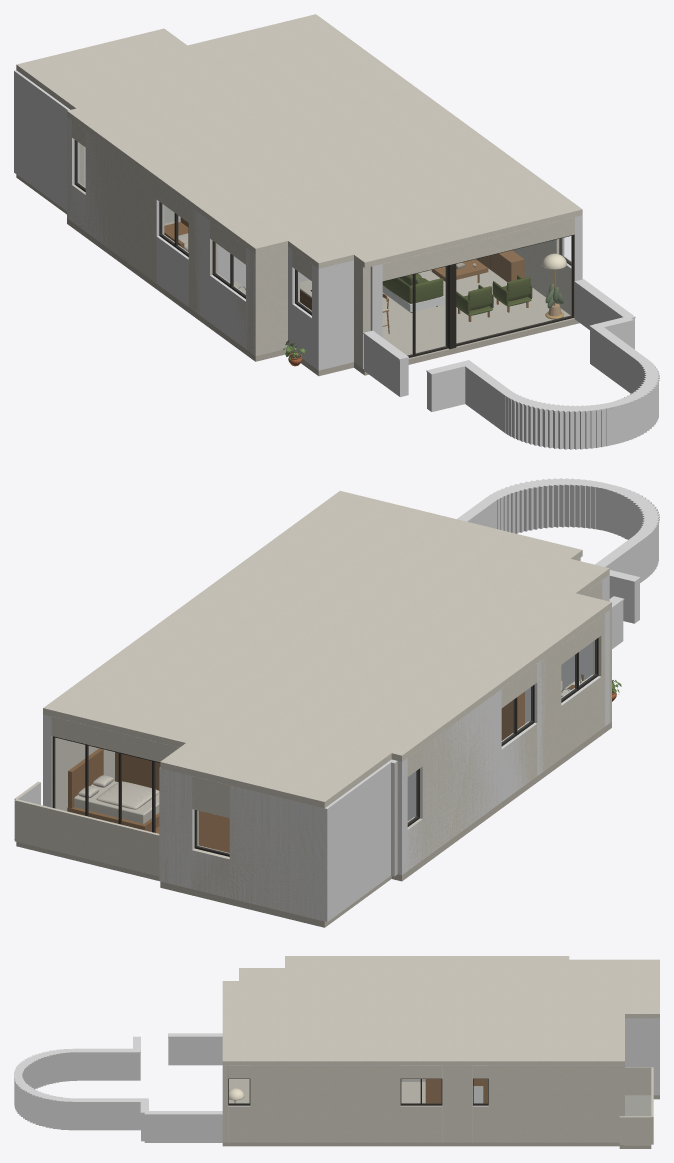
File: bilu6_representative.glb
The picture shows the model from 3 angles, top to bottom: view 1: azimuth 30°, elevation 25°; view 2: azimuth 150°, elevation 25°; view 3: azimuth 270°, elevation 25°; orthographic projection. The views are drawn at different scales.
Visible parts, largest first — view 1: STATIC_public_WEB_Mineral_plaster_warm_offwhite.001, Floor_slab_000.001, Daylit_Interior_Furnishings, COL_Architectural_wall_segment_017, COL_Architectural_wall_segment_101, STATIC_public_WEB_Dark_bronze_powdercoat.001, COL_Architectural_wall_segment_072, COL_Architectural_wall_segment_082, COL_Terrace_parapet_or_cap_403, COL_Architectural_wall_segment_073, COL_Terrace_parapet_or_cap_503, COL_Architectural_wall_segment_081 (+7 smaller); view 2: STATIC_public_WEB_Mineral_plaster_warm_offwhite.001, COL_Architectural_wall_segment_008, COL_Architectural_wall_segment_072, Daylit_Interior_Furnishings, COL_Architectural_wall_segment_017, COL_Architectural_wall_segment_016, Floor_slab_000.001, STATIC_public_WEB_Dark_bronze_powdercoat.001, COL_Architectural_wall_segment_073, COL_Architectural_wall_segment_009, COL_Architectural_wall_segment_064, COL_Architectural_wall_segment_091 (+4 smaller); view 3: STATIC_public_WEB_Mineral_plaster_warm_offwhite.001, Floor_slab_000.001, COL_Terrace_parapet_or_cap_399, COL_Terrace_parapet_or_cap_403, COL_Terrace_parapet_or_cap_501, COL_Terrace_parapet_or_cap_503, COL_Architectural_wall_segment_018, COL_Architectural_wall_segment_016, STATIC_public_WEB_Terrace_mineral_paving.001, STATIC_public_WEB_Dark_bronze_powdercoat.001, Daylit_Interior_Furnishings, COL_Terrace_parapet_or_cap_400 (+3 smaller).
Part boxes in pixels (x1,y1,x2,y2): STATIC_public_WEB_Mineral_plaster_warm_offwhite.001: [16, 14, 582, 368]; Floor_slab_000.001: [16, 174, 579, 376]; Daylit_Interior_Furnishings: [164, 217, 563, 333]; COL_Architectural_wall_segment_017: [19, 74, 70, 210]; COL_Architectural_wall_segment_101: [314, 260, 353, 370]; STATIC_public_WEB_Dark_bronze_powdercoat.001: [74, 140, 573, 357]; COL_Architectural_wall_segment_072: [85, 130, 164, 256]; COL_Architectural_wall_segment_082: [210, 273, 245, 348]; COL_Terrace_parapet_or_cap_403: [590, 327, 637, 393]; COL_Architectural_wall_segment_073: [156, 234, 188, 306]; COL_Terrace_parapet_or_cap_503: [364, 335, 408, 397]; COL_Architectural_wall_segment_081: [190, 210, 210, 322]; STATIC_public_WEB_Mineral_plaster_warm_offwhite.001: [14, 491, 611, 920]; COL_Architectural_wall_segment_008: [229, 785, 333, 922]; COL_Architectural_wall_segment_072: [414, 689, 501, 859]; Daylit_Interior_Furnishings: [67, 674, 584, 852]; COL_Architectural_wall_segment_017: [331, 759, 393, 916]; COL_Architectural_wall_segment_016: [159, 767, 198, 888]; Floor_slab_000.001: [16, 681, 611, 927]; STATIC_public_WEB_Dark_bronze_powdercoat.001: [52, 638, 598, 856]; COL_Architectural_wall_segment_073: [501, 721, 536, 801]; COL_Architectural_wall_segment_009: [192, 850, 229, 897]; COL_Architectural_wall_segment_064: [397, 758, 407, 874]; COL_Architectural_wall_segment_091: [562, 610, 609, 724]; STATIC_public_WEB_Mineral_plaster_warm_offwhite.001: [222, 956, 659, 1144]; Floor_slab_000.001: [222, 1079, 659, 1148]; COL_Terrace_parapet_or_cap_399: [144, 1115, 222, 1142]; COL_Terrace_parapet_or_cap_403: [76, 1102, 140, 1130]; COL_Terrace_parapet_or_cap_501: [77, 1053, 133, 1080]; COL_Terrace_parapet_or_cap_503: [168, 1037, 222, 1065]; COL_Architectural_wall_segment_018: [625, 1018, 651, 1067]; COL_Architectural_wall_segment_016: [651, 1018, 659, 1095]; STATIC_public_WEB_Terrace_mineral_paving.001: [624, 1095, 651, 1145]; STATIC_public_WEB_Dark_bronze_powdercoat.001: [228, 1078, 488, 1105]; Daylit_Interior_Furnishings: [425, 1079, 441, 1103]; COL_Terrace_parapet_or_cap_400: [144, 1111, 222, 1115].
Bounding box in the file's own units: 8.78 × 3.22 × 22.13.
Materials: 47 (16 with a texture image).
